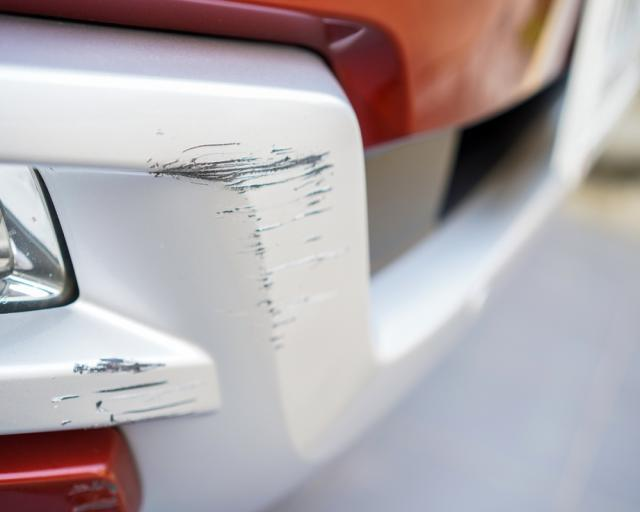scratch: (144, 136, 340, 352), (51, 351, 217, 429)
